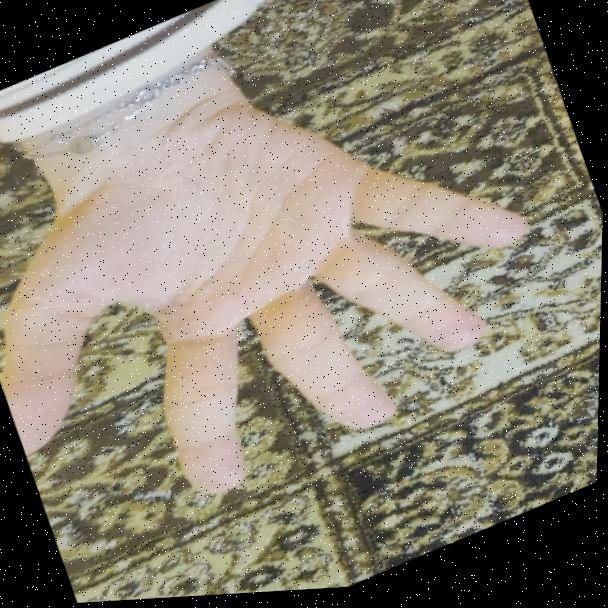five: (0, 39, 588, 564)
